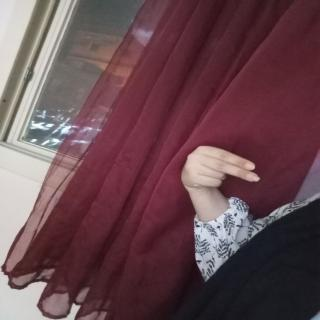AYN: (174, 140, 262, 199)
